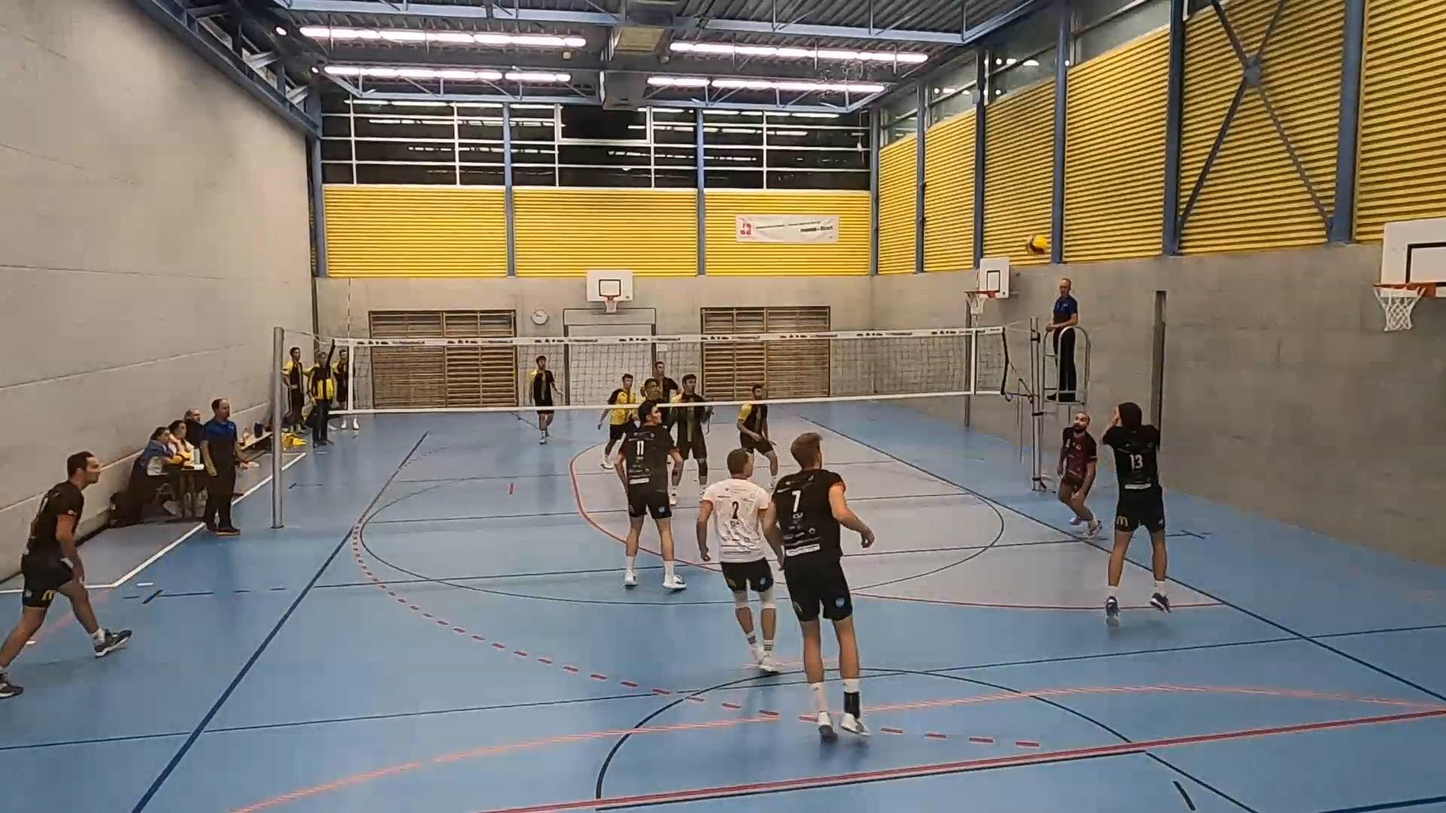Player: (765, 433, 874, 738), (0, 452, 131, 699), (697, 449, 779, 674), (616, 400, 685, 590), (1057, 412, 1100, 537), (670, 374, 712, 494), (737, 384, 778, 487), (598, 373, 639, 468), (529, 355, 560, 443), (652, 361, 679, 402)
Receive: (1098, 400, 1174, 626)
ball: (1026, 231, 1051, 252)
